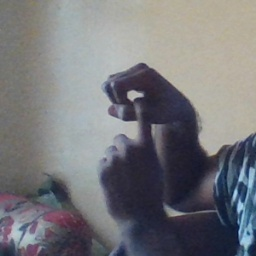Q: (92, 61, 176, 194)
